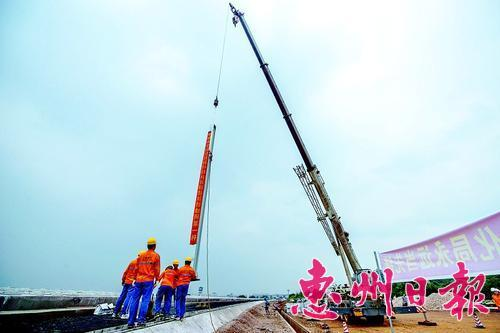hard-hat: (147, 237, 156, 245), (185, 256, 192, 261), (166, 264, 173, 269)
person: (127, 237, 160, 329), (174, 257, 196, 321), (153, 264, 176, 320)
ppe-suit: (122, 236, 160, 327), (173, 265, 196, 319), (153, 263, 175, 316)
